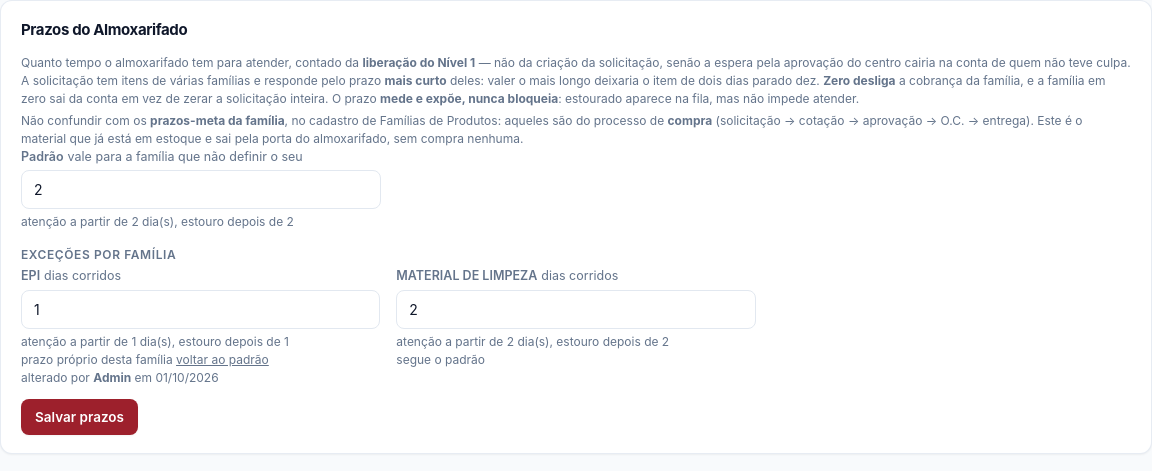
tela Prazos do Almoxarifado › prazo fora da faixa trava o botão em vez de deixar o servidor recusar
Clear the number field labelled "Padrão" at (201, 190), box [21,170,381,209]
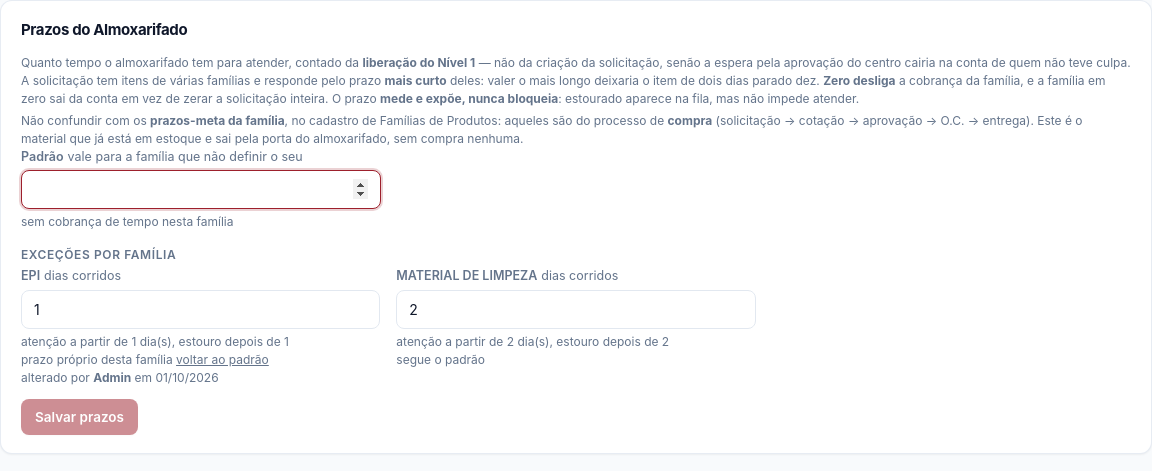
Check: the button "Salvar prazos" is disabled, box [21,399,138,435]
Type "400" into the number field labelled "Padrão" at (201, 190), box [21,170,381,209]
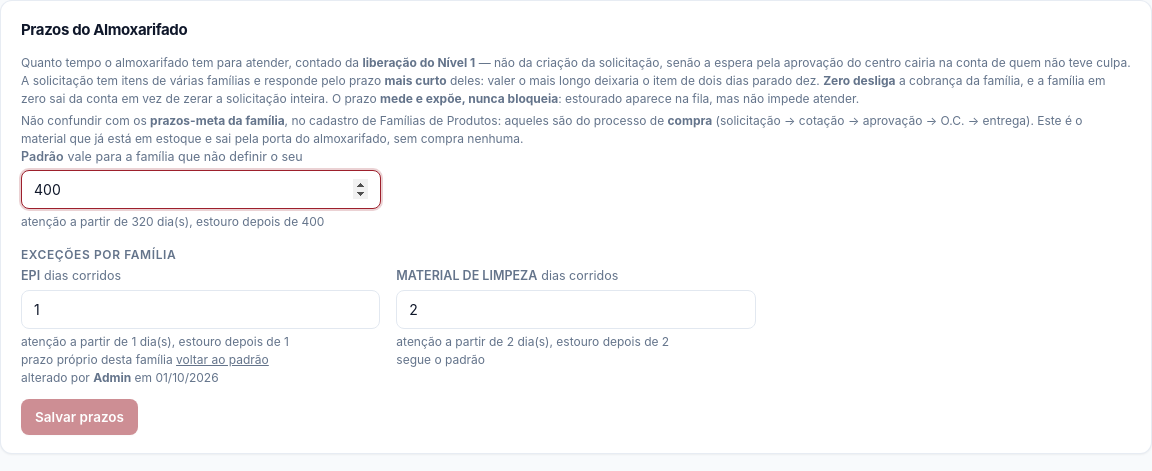
Check: the button "Salvar prazos" is disabled, box [21,399,138,435]
Replace the text in the number field labelled "Padrão" with "5" at (201, 190), box [21,170,381,209]
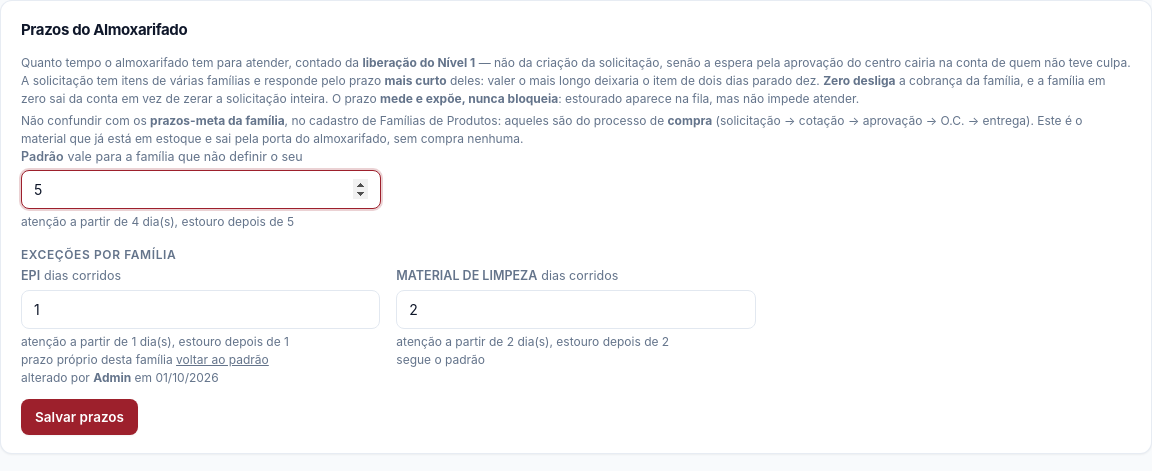
Check: the button "Salvar prazos" is enabled, box [21,399,138,435]
